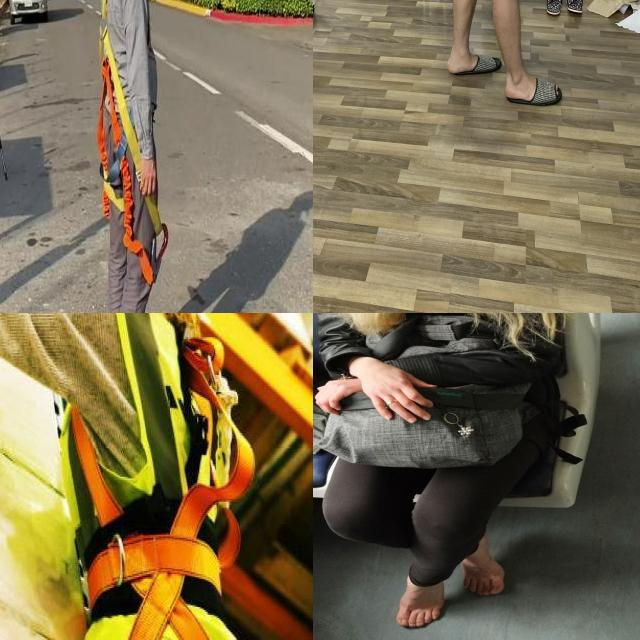Barefoots: (460, 531, 505, 595), (396, 575, 444, 627)
Harness: (62, 313, 247, 640), (98, 28, 169, 284)
Sandals: (504, 58, 563, 106), (447, 42, 502, 76)
